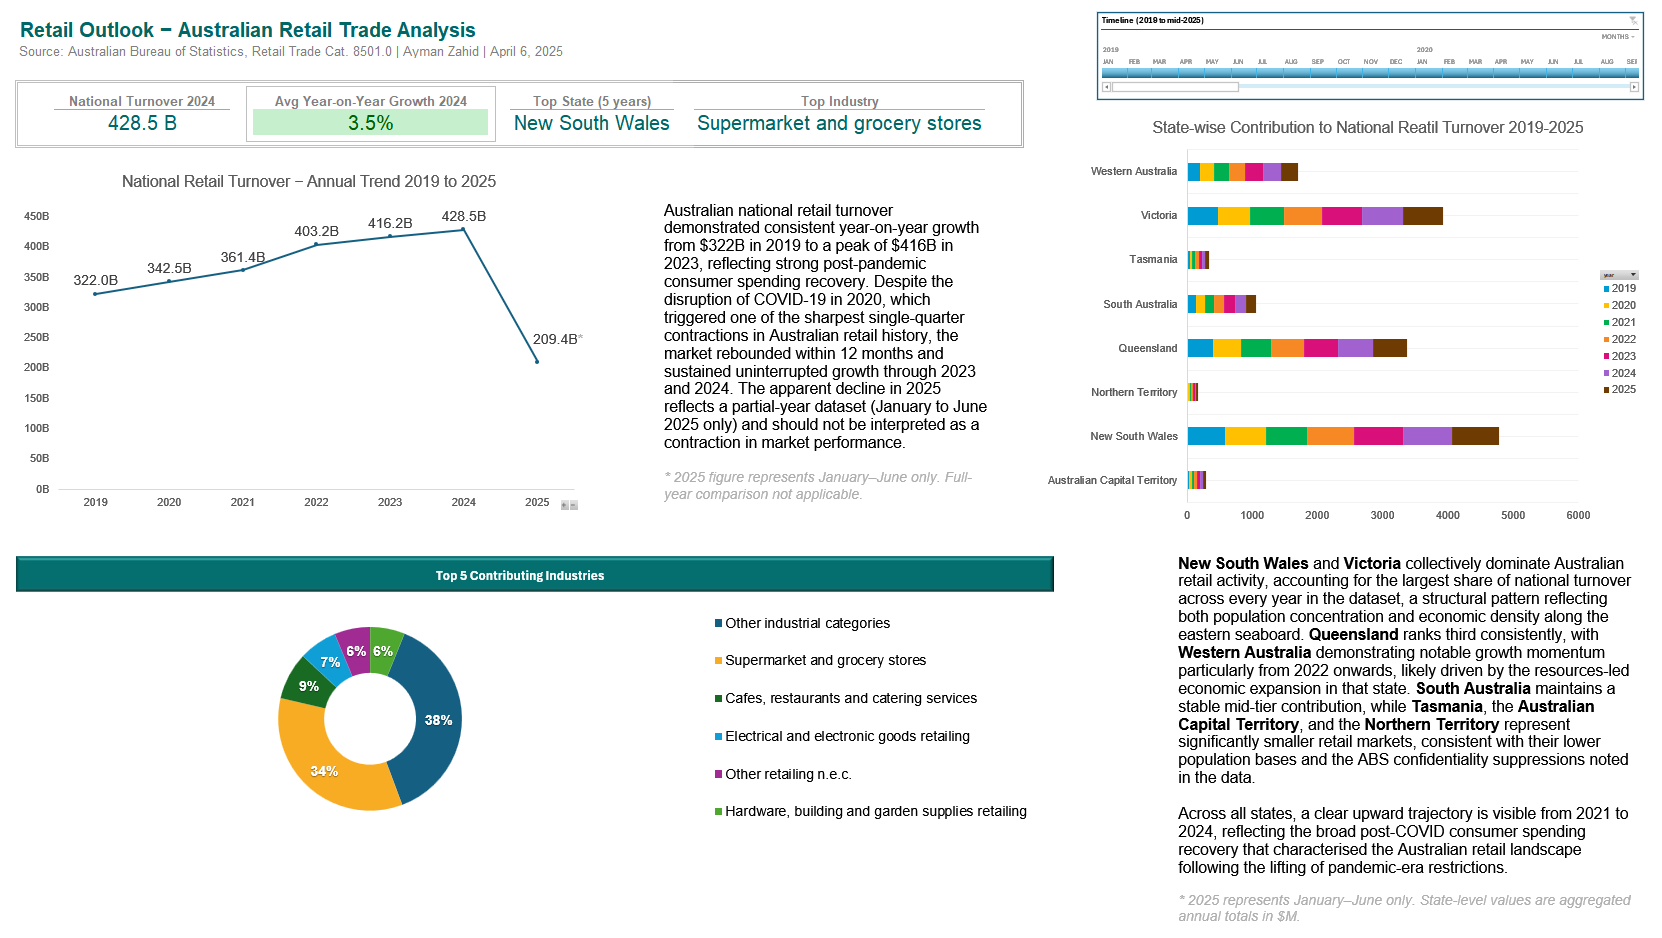

This screenshot's page, from the dashboard's own definition file:
{"tool":"powerbi","page":{"name":"National Retail Trade Outlook","canvas":[1280,720],"ordinal":0},"visuals":[{"type":"shape","box":[4.3,5.7,1270,151.4],"z":0},{"type":"card","fields":{"Values":["monthly_trend.5-Year Growth %"]},"box":[407.2,58.6,140,66.2],"z":0,"group":"g2"},{"type":"card","fields":{"Values":["monthly_trend.Total Turnover 2024 (B)"]},"box":[79,71.9,124.5,39.8],"z":0,"group":"g1"},{"type":"card","fields":{"Values":["monthly_trend.YoY Growth %"]},"box":[232.8,61.2,188.5,85.2],"z":1000,"group":"g3"},{"type":"textbox","box":[401,113.2,151.5,34.6],"z":1000,"group":"g2"},{"type":"card","fields":{"Values":["monthly_trend.National Turnover Label"]},"box":[4.3,114.5,273.3,31.3],"z":1000,"group":"g1"},{"type":"slicer","fields":{"Values":["monthly_trend.year"]},"box":[0,171.4,121.4,367.1],"z":1000},{"type":"card","fields":{"Values":["state_summary.Top State"]},"box":[559,63.9,241.3,80],"z":2000,"group":"g3"},{"type":"lineChart","title":"National Retail Turnover: Monthly Trend 2019 to 2025","fields":{"Category":["monthly_trend.reporting_date"],"Y":["Sum(monthly_trend.national_turnover_m)"]},"box":[607.1,164.3,672.9,555.7],"z":2000},{"type":"card","fields":{"Values":["industry_rank.Most Contributing Industry"]},"box":[810.9,63.6,437.5,80],"z":3000,"group":"g3"},{"type":"shape","box":[777.9,196.8,15.8,473.2],"z":3000},{"type":"group","id":"g1","title":"Group 1","box":[4.3,71.9,273.3,74.4],"z":4000,"group":"g3"},{"type":"shape","box":[760.8,250,20.8,52.3],"z":4000},{"type":"group","id":"g2","title":"Group 2","box":[401,58.6,151.5,89.3],"z":5000,"group":"g3"},{"type":"shape","box":[748,196.7,16,473.3],"z":5000},{"type":"filledMap","title":"Retail Turnover by State — 5 Year Total ($M)","fields":{"Category":["state_summary.state"]},"box":[121.4,164.3,485.7,285.7],"z":6000},{"type":"actionButton","box":[0,0,100,40],"z":7000},{"type":"actionButton","box":[6.4,556.4,114.5,67.3],"z":8000},{"type":"textbox","box":[705.5,213.6,131.8,30],"z":9000},{"type":"clusteredColumnChart","title":"Year-on-Year Growth % in National Retail Turnover","fields":{"Category":["monthly_trend.year"],"Y":["monthly_trend.YoY Growth (%)"]},"box":[132.9,450,474.3,270],"z":10000},{"type":"actionButton","box":[63.6,630,57.3,40],"z":11000},{"type":"group","id":"g3","title":"Group 3","box":[4.3,58.6,1244.3,88.6],"z":12000,"group":"g4"},{"type":"textbox","box":[71.4,15.7,1150,65.7],"z":13000,"group":"g4"},{"type":"group","id":"g4","title":"Group 4","box":[4.3,15.7,1244.3,131.4],"z":13001}]}

Visuals, with their boxes in screenshot pixels (x1, y1, x2, y2), scaled from the page's 1280x720 canvas onto the 1662x938 screenshot:
shape: locate(6, 7, 1655, 205)
card - monthly_trend.5-Year Growth %: locate(529, 76, 711, 163)
card - monthly_trend.Total Turnover 2024 (B): locate(103, 94, 264, 146)
card - monthly_trend.YoY Growth %: locate(302, 80, 547, 191)
textbox: locate(521, 147, 717, 193)
card - monthly_trend.National Turnover Label: locate(6, 149, 360, 190)
slicer - monthly_trend.year: locate(0, 223, 158, 702)
card - state_summary.Top State: locate(726, 83, 1039, 187)
"National Retail Turnover: Monthly Trend 2019 to 2025" lineChart: locate(788, 214, 1661, 937)
card - industry_rank.Most Contributing Industry: locate(1053, 83, 1621, 187)
shape: locate(1010, 256, 1031, 873)
"Group 1" group: locate(6, 94, 360, 191)
shape: locate(988, 326, 1015, 394)
"Group 2" group: locate(521, 76, 717, 193)
shape: locate(971, 256, 992, 873)
"Retail Turnover by State — 5 Year Total ($M)" filledMap: locate(158, 214, 788, 586)
actionButton: locate(0, 0, 130, 52)
actionButton: locate(8, 725, 157, 813)
textbox: locate(916, 278, 1087, 317)
"Year-on-Year Growth % in National Retail Turnover" clusteredColumnChart: locate(173, 586, 788, 937)
actionButton: locate(83, 821, 157, 873)
"Group 3" group: locate(6, 76, 1621, 192)
textbox: locate(93, 20, 1586, 106)
"Group 4" group: locate(6, 20, 1621, 192)
